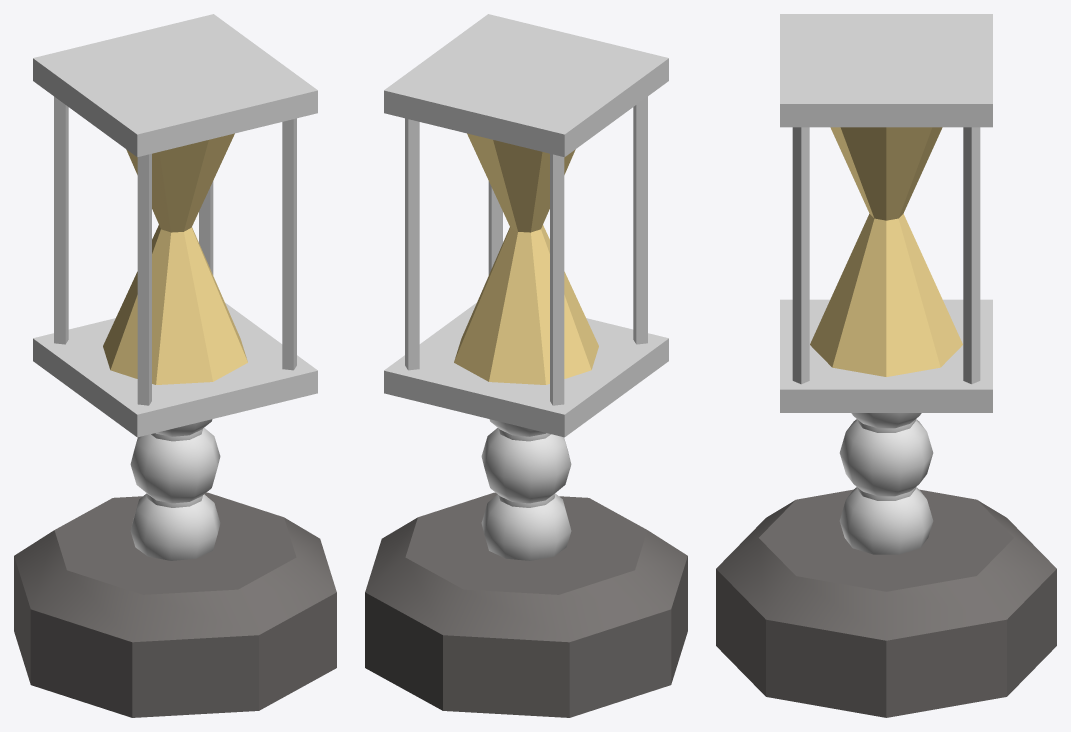
The model's file is trophy_u16.gltf.
3 views of the same model, side by side, from view 1: azimuth 30°, elevation 25°; view 2: azimuth 150°, elevation 25°; view 3: azimuth 270°, elevation 25° (orthographic).
Parts seen in each view (by area): view 1: Body; view 2: Body; view 3: Body.
Part boxes in pixels (left/top/right/bottom): Body: left=14, top=14, right=336, bottom=717; Body: left=365, top=14, right=687, bottom=717; Body: left=716, top=14, right=1056, bottom=717.
Size of the model in its own units: 0.08 by 0.152 by 0.08.
